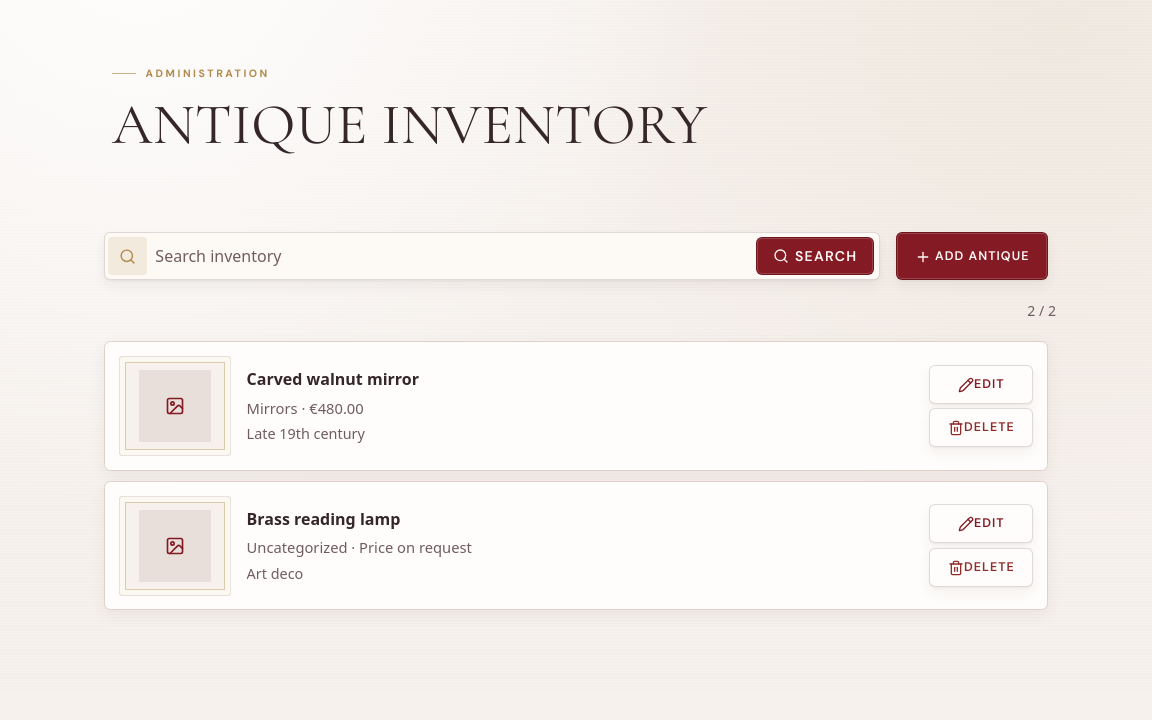
it: Antique administration page › deletes a piece after the curator confirms
Expected: the text "Carved walnut mirror" is shown, 247,368 -> 419,390
Click the button "Delete" in the row of "Late 19th century".
click(981, 428)  # box 929,408 -> 1033,447
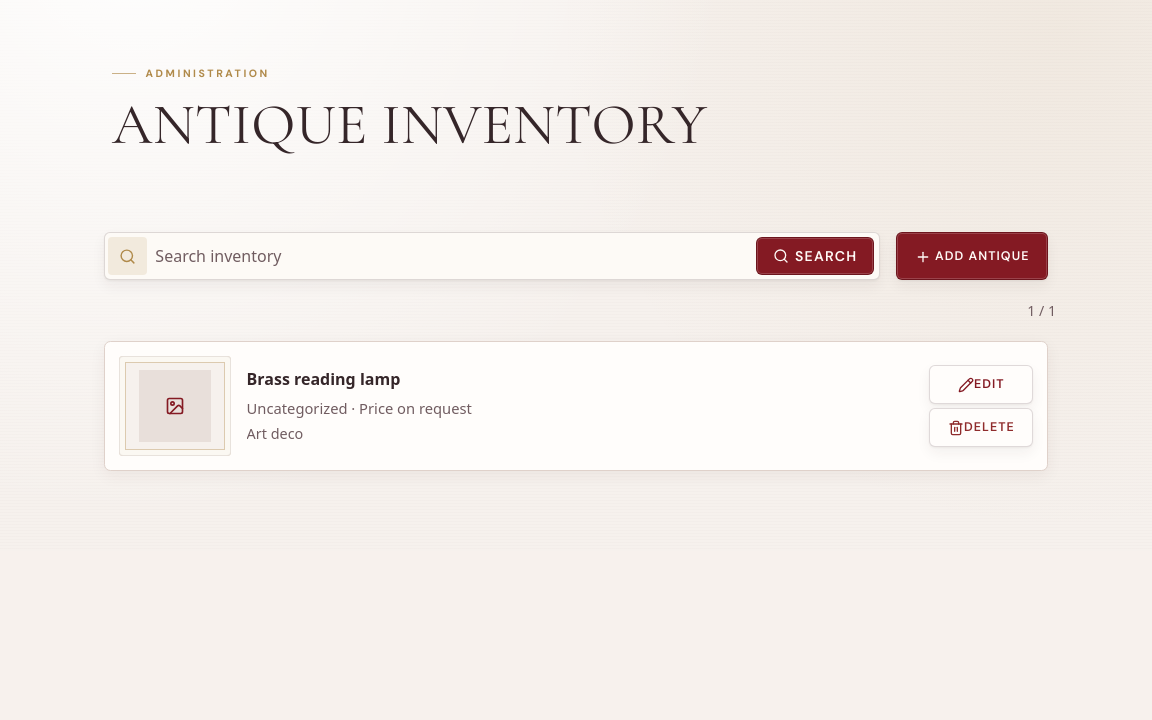
Expected: the text "Brass reading lamp" is shown, 247,368 -> 400,390
Result: the text "Carved walnut mirror" is gone
